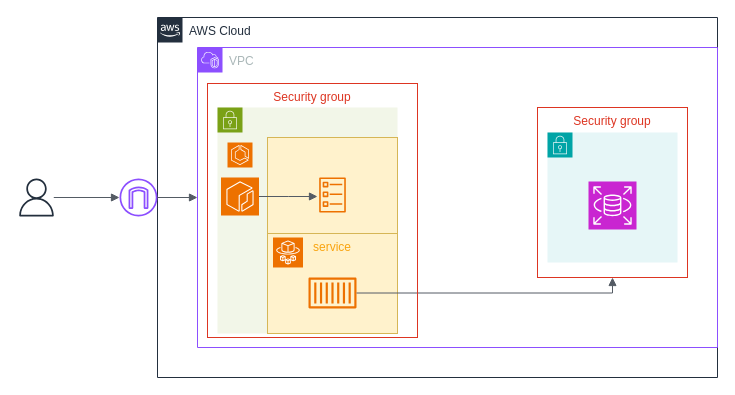
Some shapes in this 735 by 395 pixel diagram are drawn without their labels. The shapes that lost their labels are listed below. From the top down, each one's box as (x1, y1, x2, y2) in pixels, then its label:
(546, 132, 678, 262): Private subnet
(216, 106, 398, 334): Public subnet
(266, 136, 398, 328): cluster
